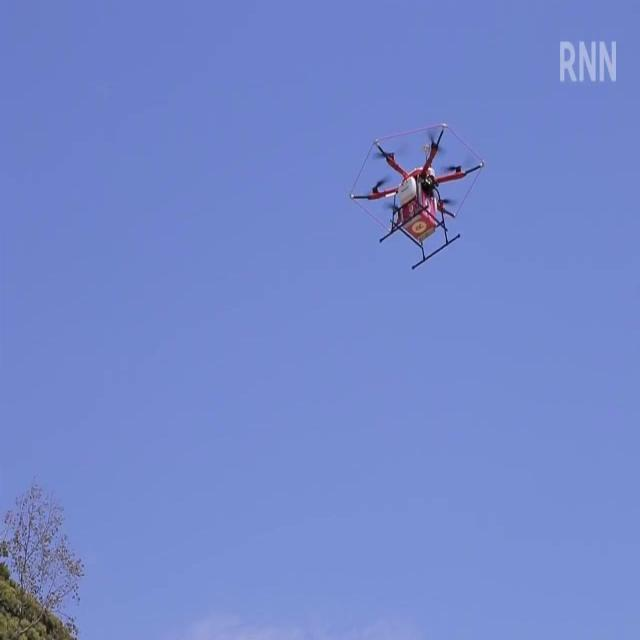drone: (350, 122, 486, 270)
